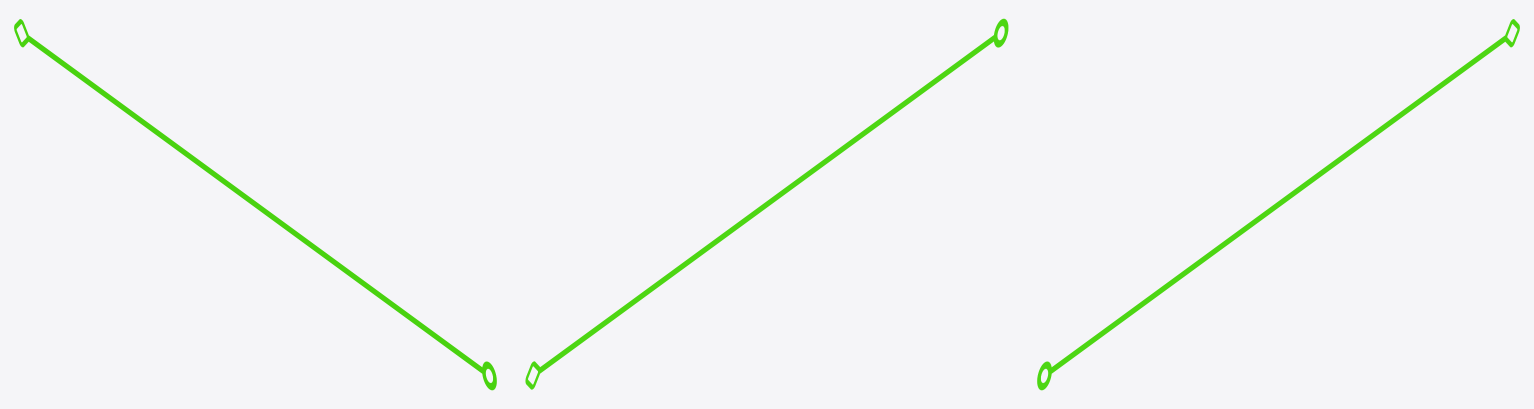
Rendered from 9_3_cl_active.glb.
The picture shows the model from 3 angles, left to right: view 1: azimuth 30°, elevation 25°; view 2: azimuth 150°, elevation 25°; view 3: azimuth 330°, elevation 25°; orthographic projection.
Visible parts, largest first — view 1: 9_3_cl_active; view 2: 9_3_cl_active; view 3: 9_3_cl_active.
Boxes of the visible parts, x1,y1,x2,y2 form: 9_3_cl_active: (14,19,496,390); 9_3_cl_active: (525,18,1008,389); 9_3_cl_active: (1037,19,1519,390).
Size of the model in its own units: 3.11e-06 by 0.3315 by 10.54.
1 material, 1 textured.
